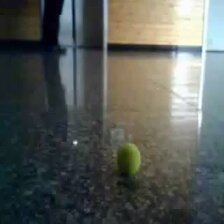tennis: (116, 142, 142, 176)
